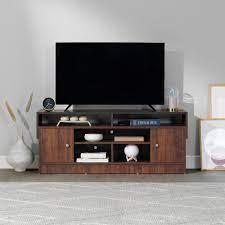TV: (56, 40, 167, 110)
clock: (40, 96, 55, 112)
console: (36, 110, 189, 176)
